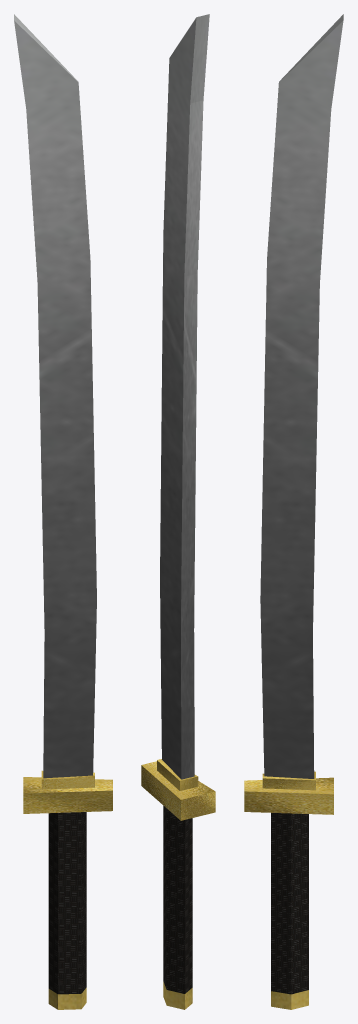
File: katana.glb
3 views of the same model, side by side, from view 1: azimuth 90°, elevation 25°; view 2: azimuth 210°, elevation 25°; view 3: azimuth 270°, elevation 25° (orthographic). The views are drawn at different scales.
Visible parts, largest first — view 1: Cube.001, Cylinder, Cube, Cube.002; view 2: Cube.001, Cylinder, Cube, Cube.002; view 3: Cube.001, Cylinder, Cube, Cube.002.
Boxes of the visible parts, bbox=[...] form: Cube.001: bbox=[14, 14, 96, 778]; Cylinder: bbox=[48, 812, 86, 1009]; Cube: bbox=[23, 777, 112, 813]; Cube.002: bbox=[41, 770, 94, 789]; Cube.001: bbox=[160, 14, 209, 779]; Cylinder: bbox=[163, 806, 192, 1009]; Cube: bbox=[141, 761, 215, 820]; Cube.002: bbox=[157, 759, 198, 790]; Cube.001: bbox=[260, 14, 343, 778]; Cylinder: bbox=[271, 813, 308, 1009]; Cube: bbox=[244, 777, 333, 814]; Cube.002: bbox=[262, 771, 315, 790].
Size of the model in its own units: 0.131 by 3.63 by 0.3295.
Materials: 3 (3 with a texture image).
